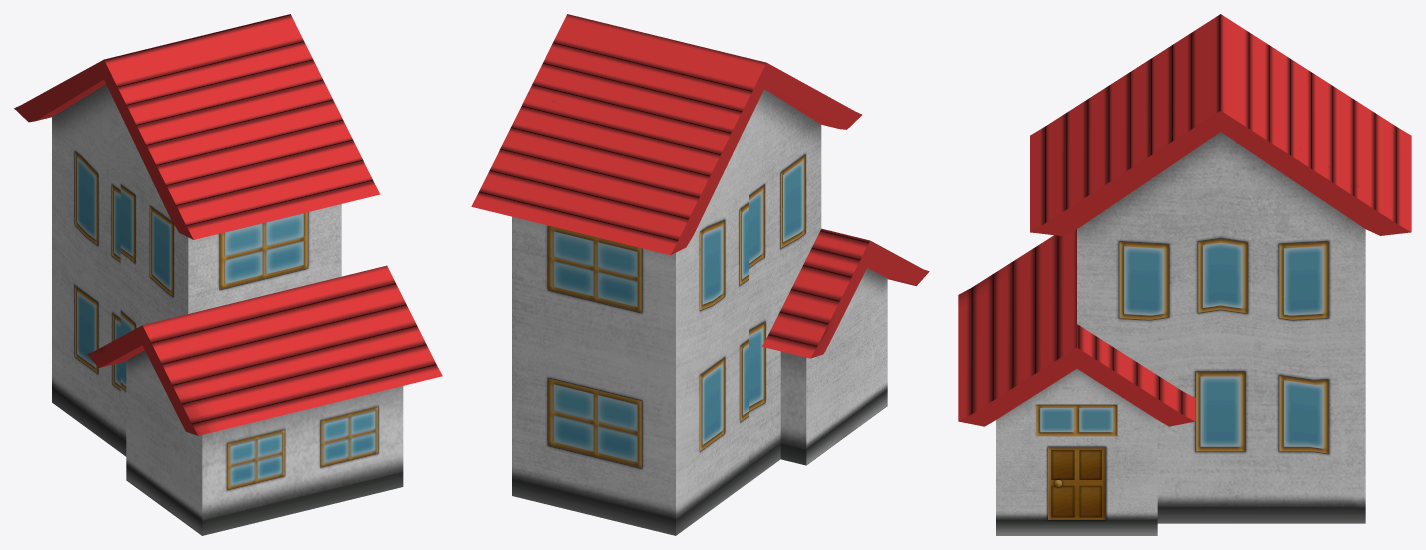
Rendered from double_house.fbx.
3 views of the same model, side by side, from view 1: azimuth 30°, elevation 25°; view 2: azimuth 150°, elevation 25°; view 3: azimuth 270°, elevation 25° (orthographic). The views are drawn at different scales.
Parts seen in each view (by area): view 1: double_house; view 2: double_house; view 3: double_house.
Boxes of the visible parts, x1,y1,x2,y2 form: double_house: (14,14,442,535); double_house: (471,14,929,535); double_house: (958,14,1411,535).
Bounding box in the file's own units: 6.35 × 9.86 × 9.6.
